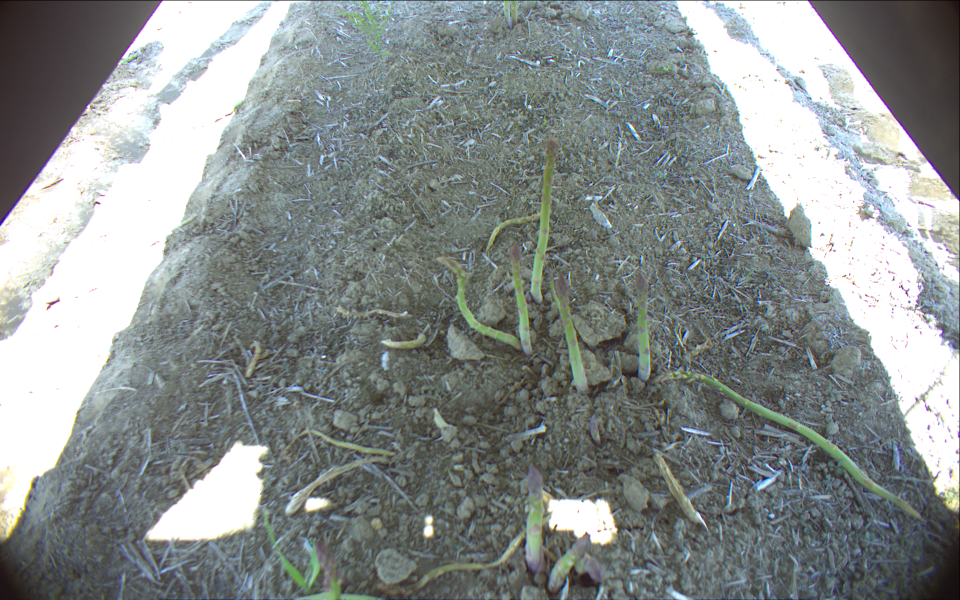aspa: (653, 370, 921, 519), (436, 256, 521, 353), (529, 134, 561, 306), (555, 269, 590, 396), (505, 237, 534, 356), (546, 534, 589, 597), (484, 212, 544, 250), (526, 463, 546, 570), (635, 271, 651, 385), (381, 334, 429, 350), (573, 557, 603, 582), (589, 413, 602, 445), (502, 1, 513, 27), (511, 1, 517, 27)
